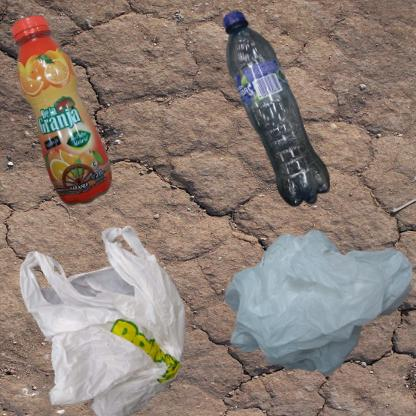bolsa: (10, 213, 222, 416), (213, 213, 416, 401)
botella: (213, 10, 341, 213), (10, 10, 119, 219)
